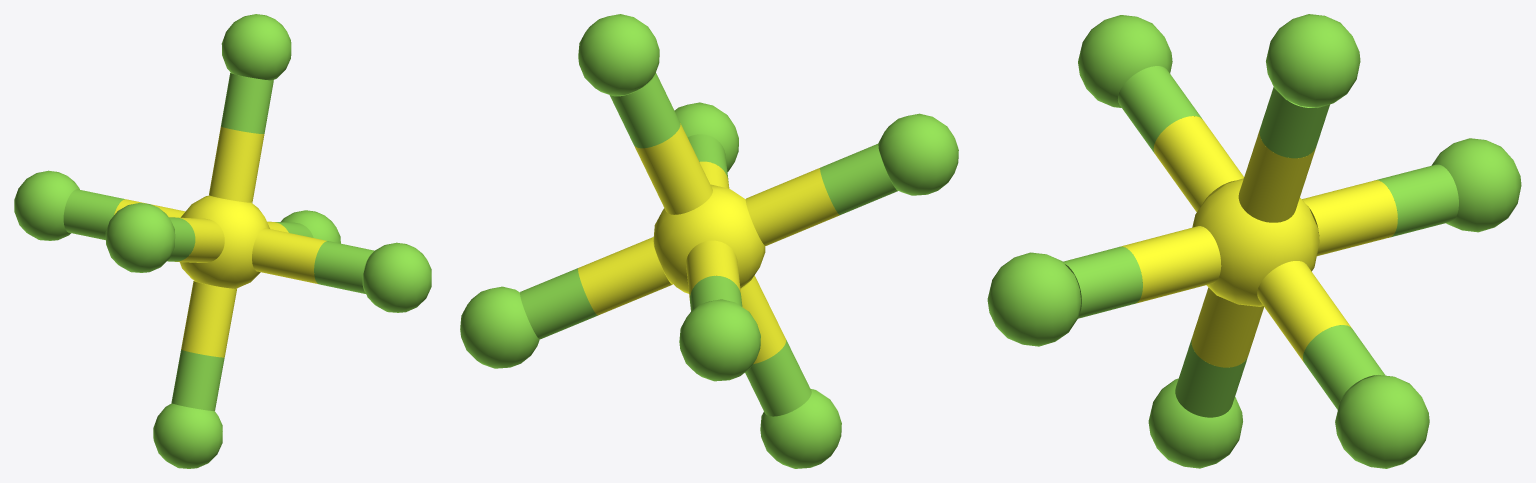
The picture shows the model from 3 angles, left to right: view 1: azimuth 30°, elevation 25°; view 2: azimuth 150°, elevation 25°; view 3: azimuth 270°, elevation 25°; orthographic projection. The views are drawn at different scales.
Visible parts, largest first — view 1: subnode_0, subnode_4, subnode_1, subnode_5, subnode_2, subnode_3, subnode_9, subnode_16, subnode_7, subnode_15, subnode_10, subnode_8 (+4 smaller); view 2: subnode_0, subnode_3, subnode_5, subnode_4, subnode_6, subnode_2, subnode_18, subnode_13, subnode_16, subnode_14, subnode_17, subnode_15 (+6 smaller); view 3: subnode_0, subnode_5, subnode_6, subnode_1, subnode_3, subnode_4, subnode_2, subnode_7, subnode_11, subnode_13, subnode_18, subnode_16 (+7 smaller).
Part boxes in pixels (<box>): subnode_0: <box>179,195,269,288</box>; subnode_4: <box>105,202,175,272</box>; subnode_1: <box>363,242,431,312</box>; subnode_5: <box>221,14,291,80</box>; subnode_2: <box>153,403,222,468</box>; subnode_3: <box>14,170,79,240</box>; subnode_9: <box>181,280,236,357</box>; subnode_16: <box>209,126,264,202</box>; subnode_7: <box>252,228,326,283</box>; subnode_15: <box>221,72,273,133</box>; subnode_10: <box>171,349,224,410</box>; subnode_8: <box>314,241,373,293</box>; subnode_0: <box>653,184,765,293</box>; subnode_3: <box>679,299,760,381</box>; subnode_5: <box>578,14,659,95</box>; subnode_4: <box>878,113,958,195</box>; subnode_6: <box>460,286,539,368</box>; subnode_2: <box>760,388,841,468</box>; subnode_18: <box>578,237,672,315</box>; subnode_13: <box>745,168,839,245</box>; subnode_16: <box>634,123,712,214</box>; subnode_14: <box>820,144,898,214</box>; subnode_17: <box>520,268,597,339</box>; subnode_15: <box>609,73,680,148</box>; subnode_0: <box>1192,178,1319,306</box>; subnode_5: <box>1266,14,1360,107</box>; subnode_6: <box>1335,375,1429,468</box>; subnode_1: <box>987,252,1081,346</box>; subnode_3: <box>1431,138,1521,232</box>; subnode_4: <box>1078,15,1172,107</box>; subnode_2: <box>1148,378,1242,468</box>; subnode_7: <box>1121,226,1221,303</box>; subnode_11: <box>1302,180,1397,256</box>; subnode_13: <box>1153,116,1243,211</box>; subnode_18: <box>1257,261,1351,361</box>; subnode_16: <box>1238,129,1316,222</box>.
Size of the model in its own units: 3.36 by 3.87 by 3.61.
